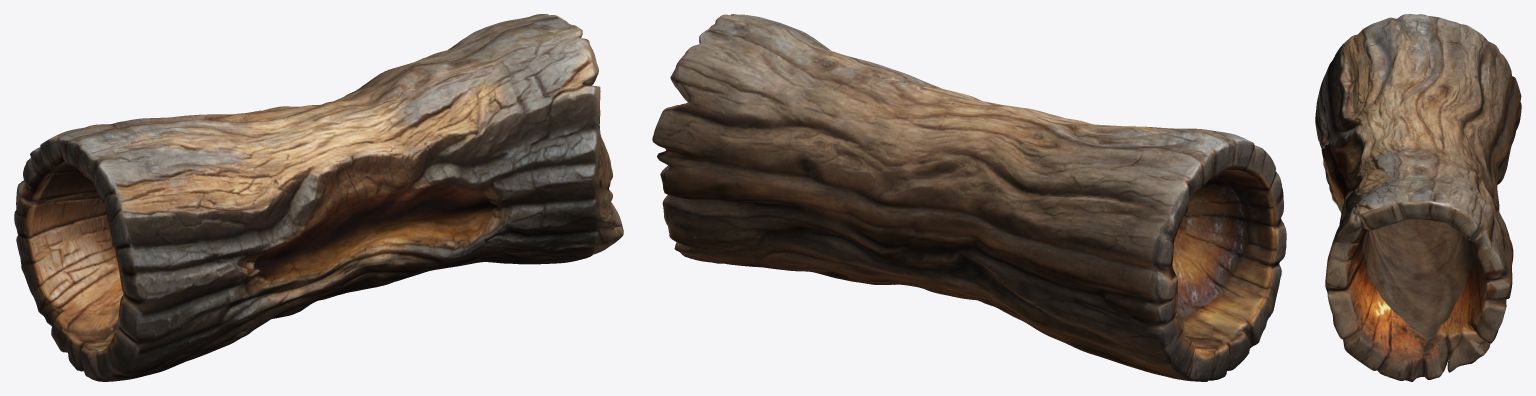
Rendered from A_hollow_log_Deeply__0425083933_refine.fbx.
3 views of the same model, side by side, from view 1: azimuth 30°, elevation 25°; view 2: azimuth 150°, elevation 25°; view 3: azimuth 270°, elevation 25° (orthographic). The views are drawn at different scales.
Visible parts, largest first — view 1: Mesh_0; view 2: Mesh_0; view 3: Mesh_0.
Part boxes in pixels (x1,y1,x2,y2): Mesh_0: [14, 14, 623, 381]; Mesh_0: [652, 14, 1286, 381]; Mesh_0: [1315, 14, 1521, 381].
Bounding box in the file's own units: 199 × 85.48 × 86.6.
1 material, 1 textured.
